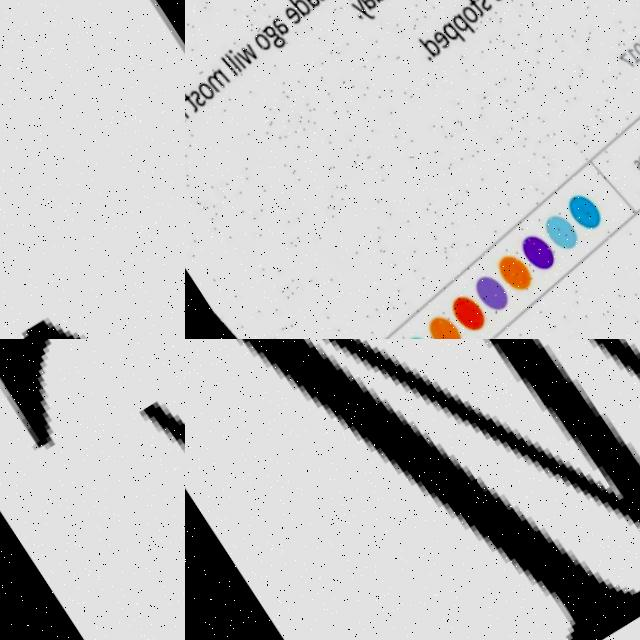0: (629, 33, 640, 54)
1: (621, 38, 640, 60), (636, 259, 640, 281)
2: (635, 28, 640, 49)
7: (616, 45, 635, 66)
L: (0, 0, 185, 339)
M: (185, 339, 640, 640)
